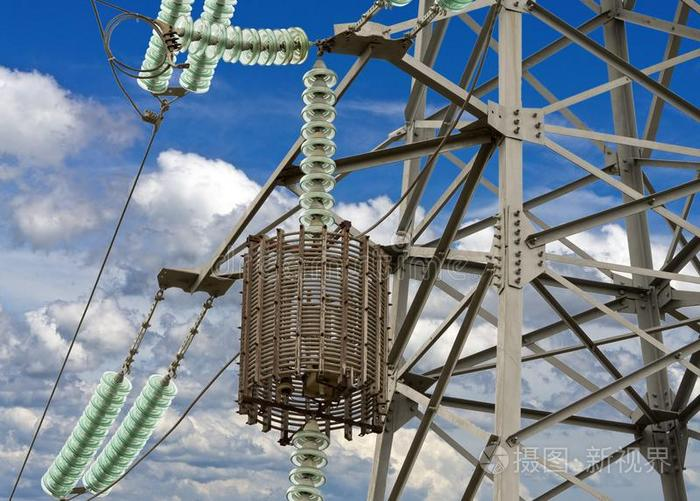insulator: (83, 372, 180, 501), (44, 370, 130, 501), (298, 67, 341, 222), (174, 18, 310, 67), (181, 1, 239, 92), (136, 1, 192, 95), (279, 429, 331, 501)
